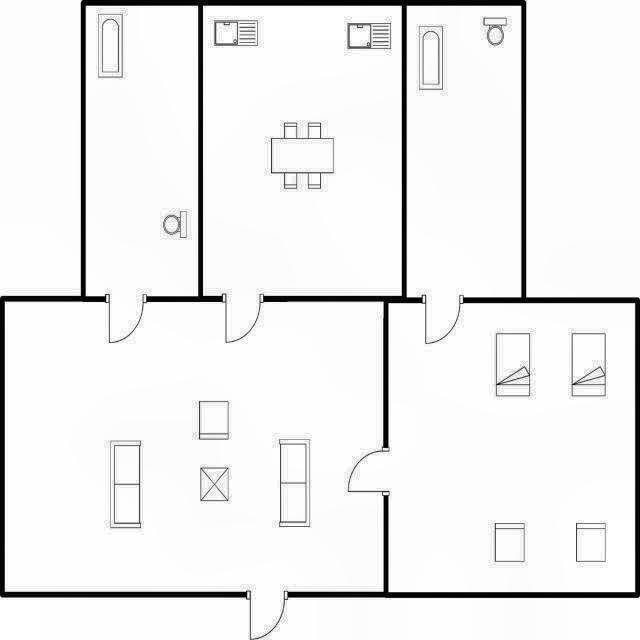room: (5, 302, 383, 591), (389, 303, 635, 592), (203, 6, 402, 296), (407, 6, 521, 298), (87, 7, 198, 296)
